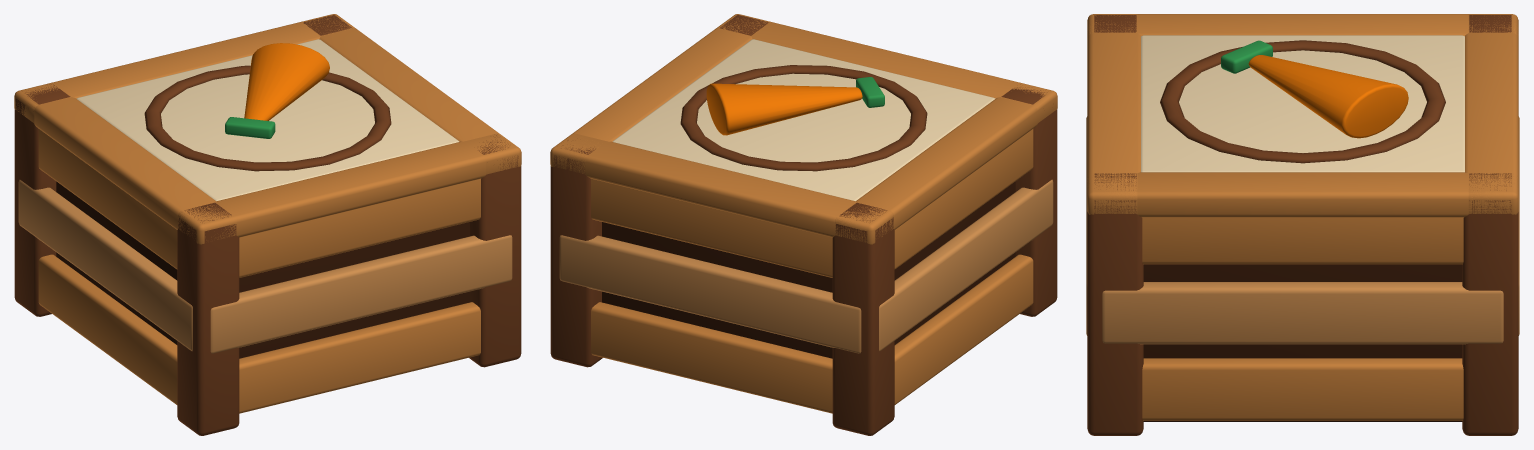
File: crate_carrots.gltf
3 renders of one model, left to right at view 1: azimuth 30°, elevation 25°; view 2: azimuth 150°, elevation 25°; view 3: azimuth 270°, elevation 25°, orthographic. The views are drawn at different scales.
Visible parts, largest first — view 1: CrateShadowCore; view 2: CrateShadowCore; view 3: CrateShadowCore.
Part boxes in pixels (<box>): CrateShadowCore: <box>14,14,521,435</box>; CrateShadowCore: <box>550,14,1057,435</box>; CrateShadowCore: <box>1086,14,1519,435</box>.
Size of the model in its own units: 1.01 by 0.7416 by 1.01.
